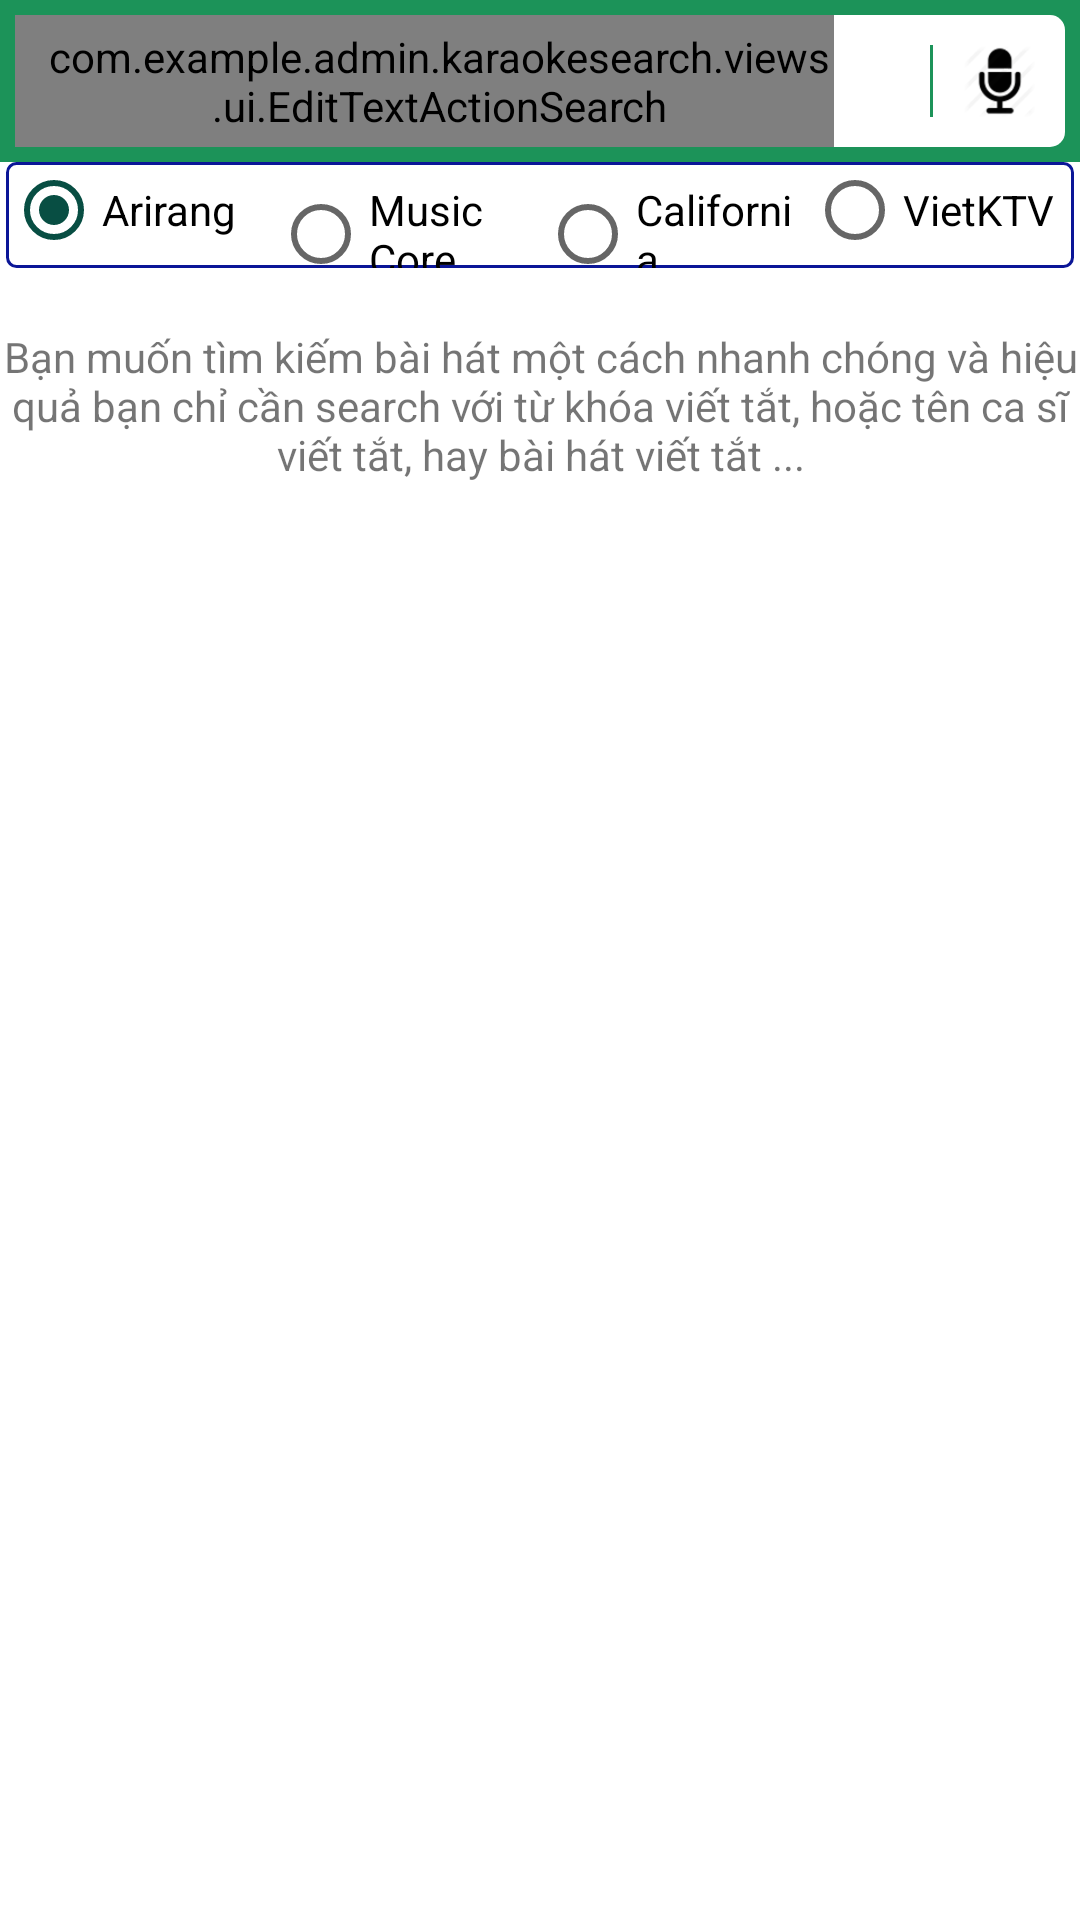

Named icons in this screenshot (1080px×1920px) and their bounding boxes, {"x1": x1, "y1": y1, "x2": x2, "y2": y2}:
search voice: {"x1": 978, "y1": 48, "x2": 1022, "y2": 114}
